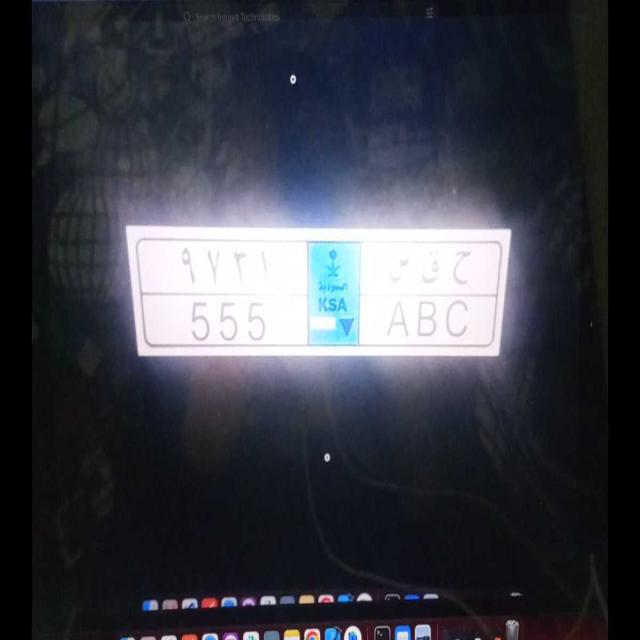license_plate: (158, 293, 489, 357)
